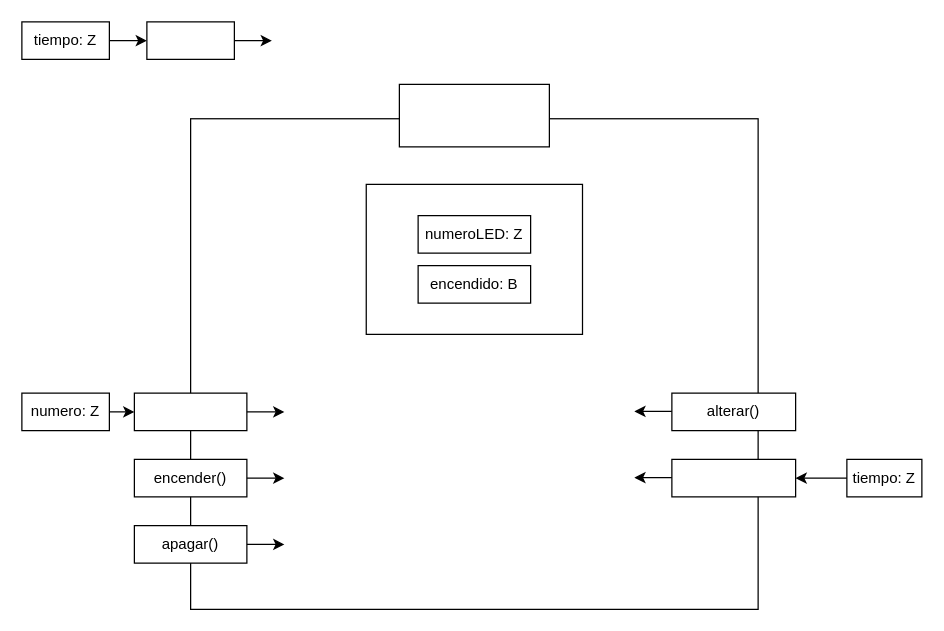
Image size: 944x631. Some labels were removed from this diagram. Each missing label, with the centre of its shape:
brillar(): the point at 733,477
esperar(): the point at 190,40
LED: the point at 473,115
LED(): the point at 190,411
